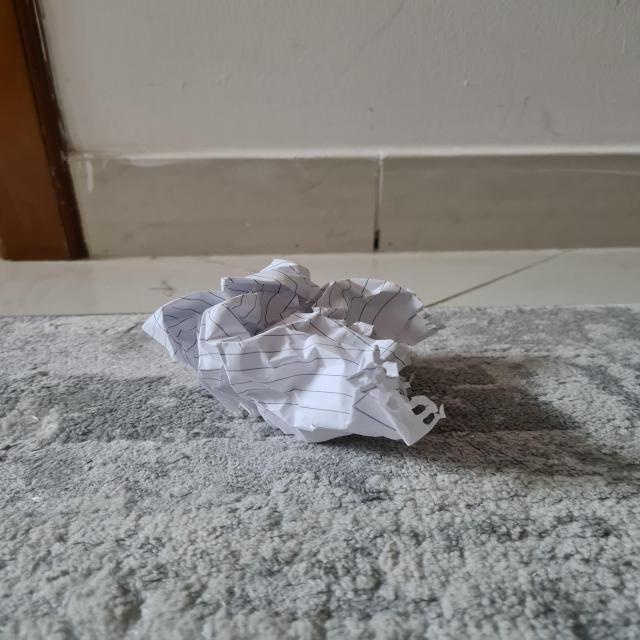trash: (157, 260, 450, 440)
